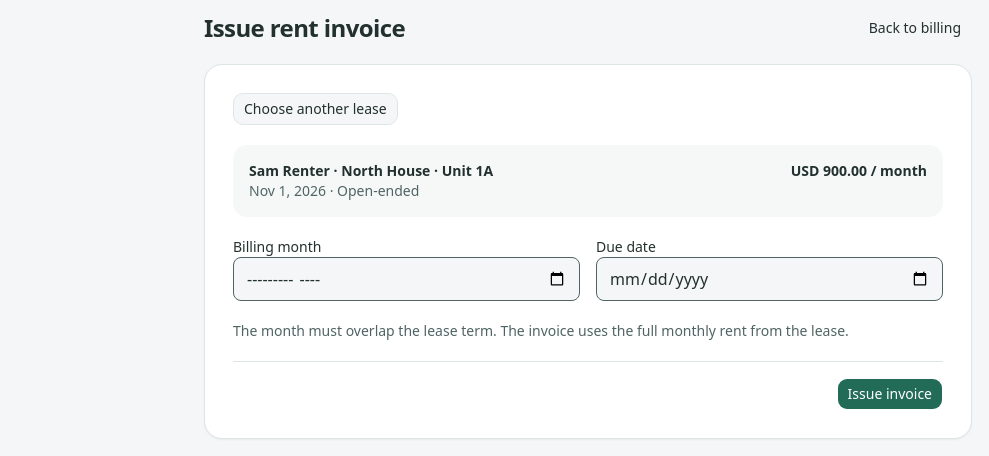
Test: issues an invoice using the lease selected from the lease page
Expected: the text "Sam Renter · North House · Unit 1A" is shown, top-left (249, 161), bottom-right (493, 181)
In the field labelled "Billing month": (406, 279) top-left (233, 257), bottom-right (580, 301), type "2026-11"
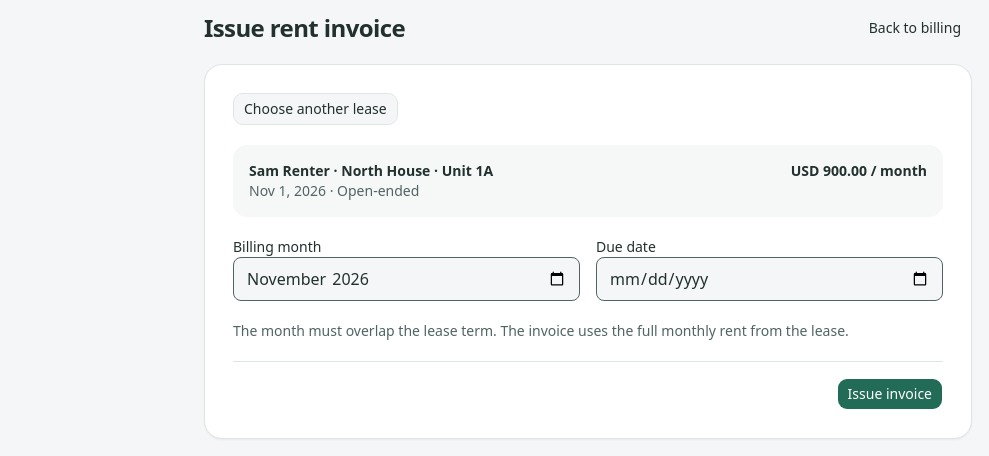
In the date field labelled "Due date": (770, 279) top-left (596, 257), bottom-right (943, 301), type "2026-11-30"
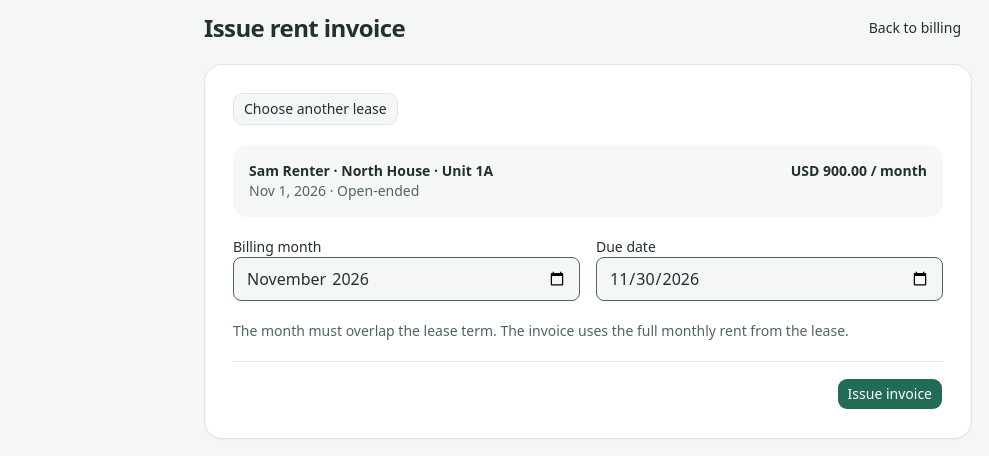
Click the button "Issue invoice": (890, 394) top-left (837, 378), bottom-right (943, 410)
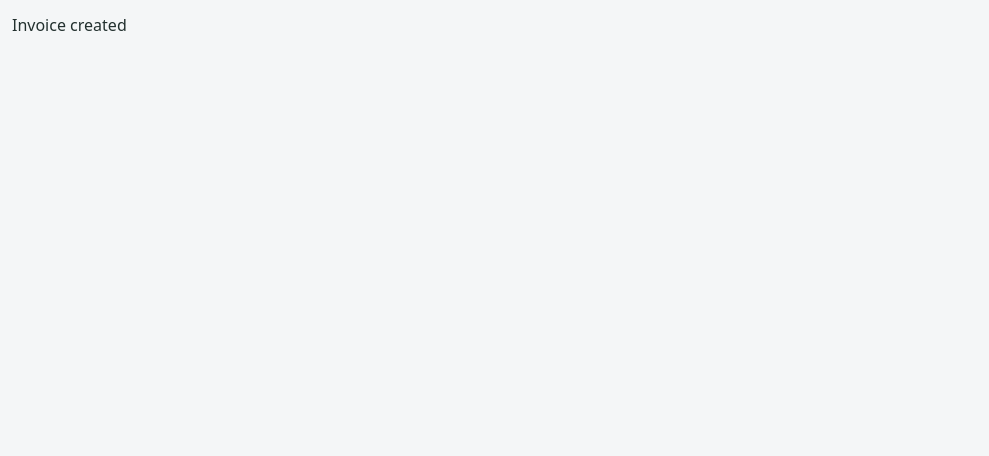
Expected: the heading "Invoice created" is shown, top-left (12, 14), bottom-right (127, 36)
